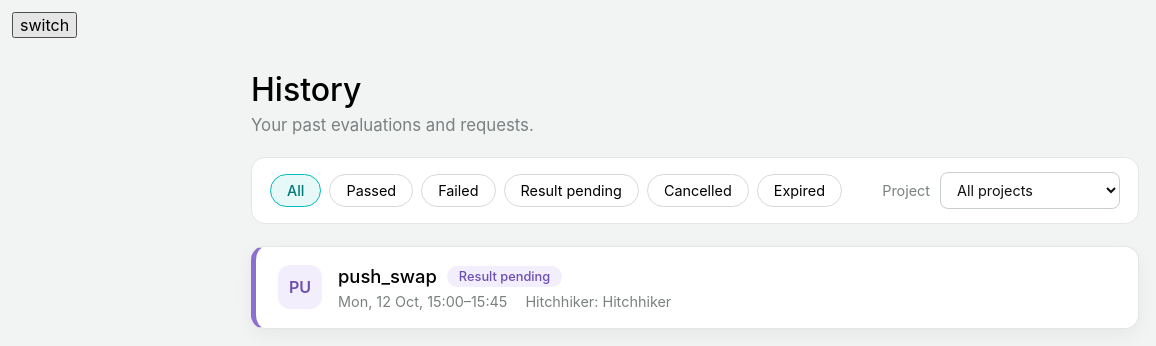
HistoryPage › filters by status and project, going back to page 1
Expected: the heading "push_swap" is shown, left=338, top=265, right=437, bottom=287
Step 1. Click the button "Cancelled" → (698, 190), box left=647, top=174, right=749, bottom=207
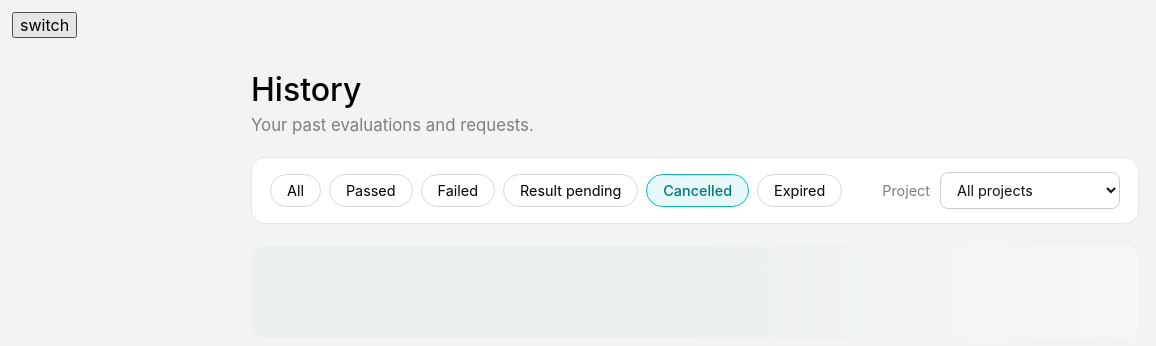
Step 2. Select "push_swap" in the dropdown labelled "Project" → (1030, 190), box left=940, top=172, right=1120, bottom=209
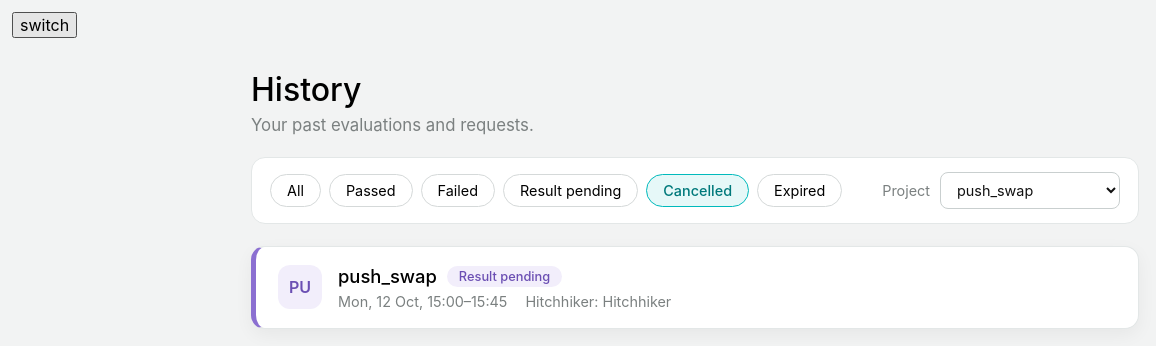
Expected: the heading "push_swap" is shown, left=338, top=265, right=437, bottom=287
